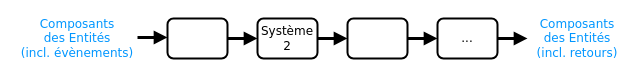
This 644x77 diagram has some shape labels left out. The shapes that lost their labels are listed below. From the top down, each one's centre as x and y in pixels, then its label:
At (197,38): "Système 1".
At (377,38): "Système 3".
